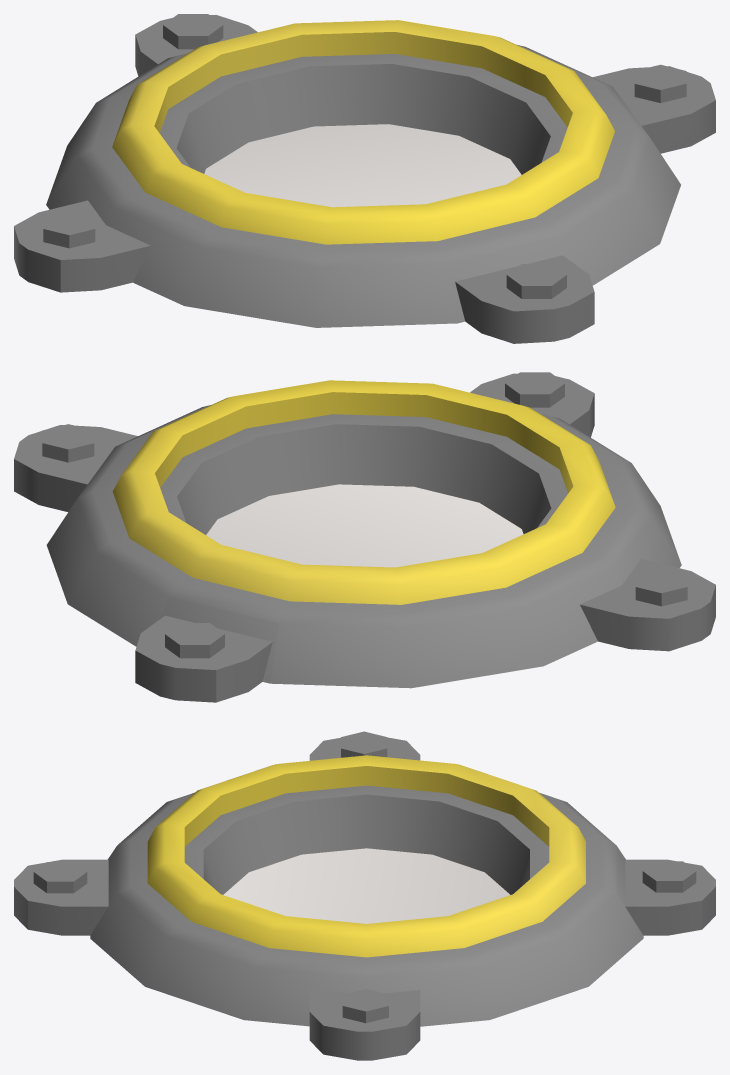
File: teleport_enter.fbx
The picture shows the model from 3 angles, top to bottom: view 1: azimuth 30°, elevation 25°; view 2: azimuth 150°, elevation 25°; view 3: azimuth 270°, elevation 25°; orthographic projection. The views are drawn at different scales.
Parts seen in each view (by area): view 1: Base, Circle; view 2: Base, Circle; view 3: Base, Circle.
Boxes of the visible parts, x1,y1,x2,y2 form: Base: (14,14,715,343); Circle: (112,20,614,244); Base: (14,372,715,702); Circle: (112,380,615,604); Base: (14,731,715,1060); Circle: (147,755,585,957).
Bounding box in the file's own units: 1.92 × 0.2086 × 1.92.
